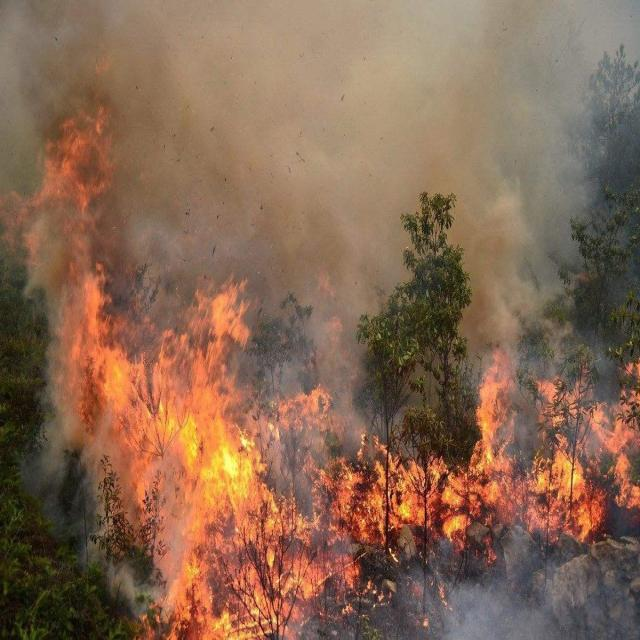fire: (9, 77, 631, 632)
smoke: (2, 4, 524, 296)
